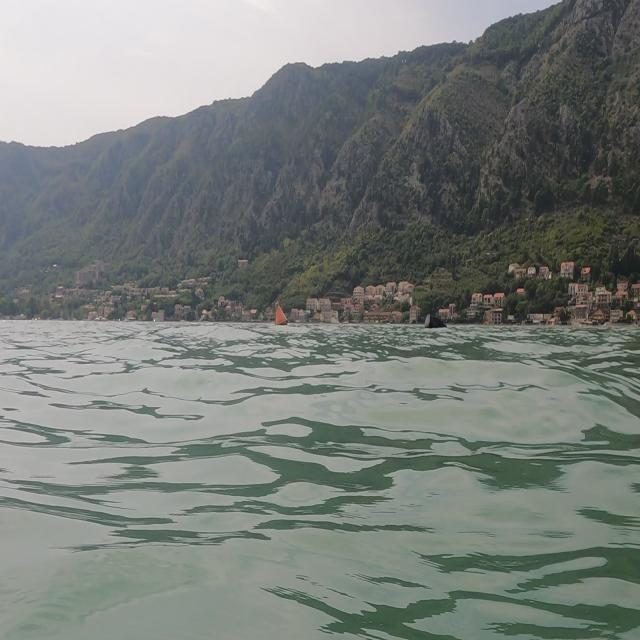buoy: (420, 310, 450, 344), (272, 298, 296, 336)
